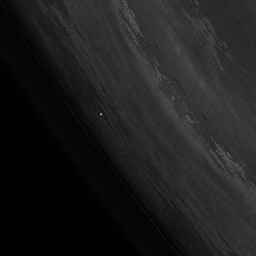Target: (99, 112, 103, 117)
